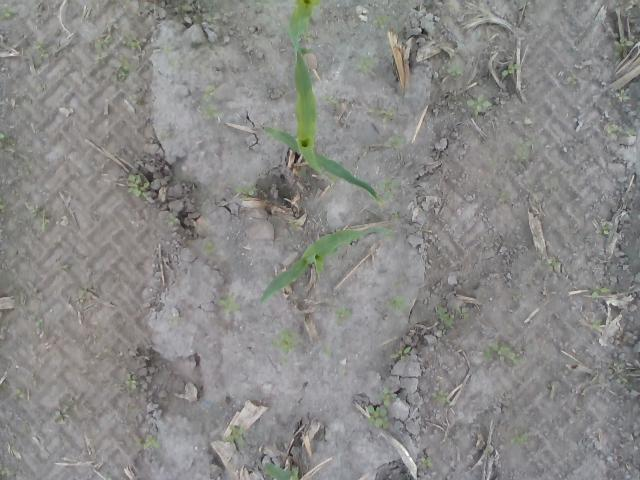Maize: (263, 46, 386, 206), (258, 224, 394, 303), (288, 0, 320, 51), (263, 461, 300, 480)
Weeds: (480, 339, 528, 367), (272, 327, 306, 366), (200, 80, 223, 120), (224, 422, 251, 449), (366, 404, 390, 432), (432, 302, 454, 332), (127, 174, 152, 200), (464, 94, 494, 113), (235, 176, 258, 200), (353, 52, 377, 74), (174, 0, 214, 13), (384, 294, 409, 314), (615, 359, 632, 388), (382, 175, 400, 202), (31, 207, 49, 232), (613, 36, 634, 56), (135, 434, 161, 450), (431, 386, 452, 405), (500, 61, 520, 80), (198, 239, 218, 258), (378, 382, 393, 407), (219, 295, 241, 312), (57, 400, 73, 423), (369, 14, 392, 30), (389, 345, 412, 361), (509, 429, 528, 448), (122, 31, 142, 49), (31, 40, 49, 58), (126, 370, 140, 393), (114, 64, 134, 80), (611, 88, 632, 103), (370, 108, 392, 122), (0, 128, 17, 146), (454, 305, 472, 322), (334, 306, 355, 320), (0, 3, 19, 18), (94, 33, 113, 48), (448, 62, 464, 79), (416, 455, 433, 471), (95, 48, 110, 66), (383, 136, 408, 146), (29, 312, 45, 327), (518, 142, 530, 162), (544, 256, 560, 270), (128, 94, 144, 107), (167, 313, 183, 326), (606, 122, 619, 138), (591, 287, 609, 298), (0, 462, 12, 478), (286, 222, 296, 241), (318, 346, 336, 356), (0, 192, 8, 213), (320, 95, 338, 104), (254, 0, 274, 8), (165, 214, 177, 226), (302, 31, 314, 43), (566, 72, 577, 84), (548, 384, 556, 400), (532, 192, 540, 208), (80, 287, 94, 296), (158, 130, 170, 140), (591, 318, 601, 330), (327, 174, 338, 184), (16, 388, 25, 400), (300, 166, 310, 176), (600, 224, 609, 235), (512, 292, 520, 304), (624, 128, 636, 136), (499, 191, 508, 201), (103, 472, 112, 480), (164, 46, 172, 54)
